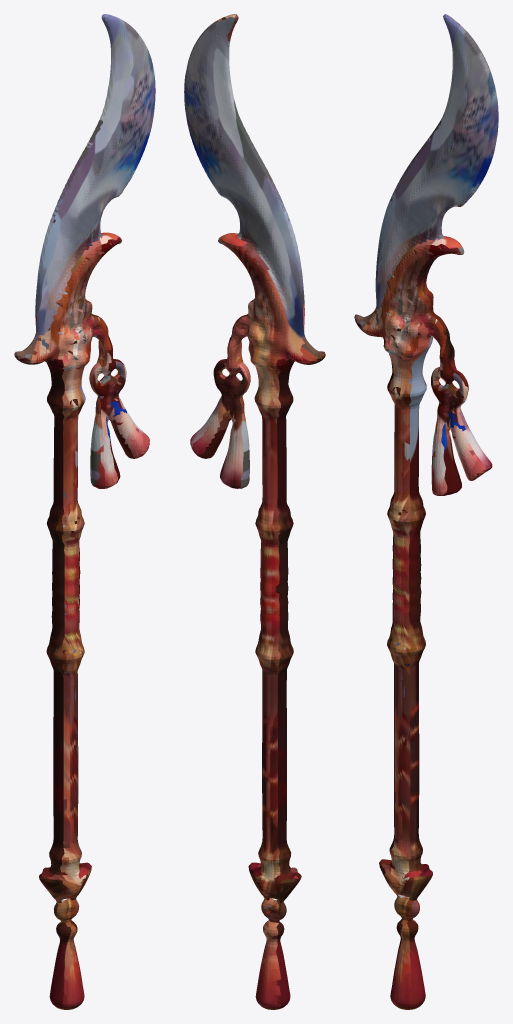
File: naginata_source.glb
3 renders of one model, left to right at view 1: azimuth 30°, elevation 25°; view 2: azimuth 150°, elevation 25°; view 3: azimuth 330°, elevation 25°, orthographic.
Visible parts, largest first — view 1: temp_mesh.ply; view 2: temp_mesh.ply; view 3: temp_mesh.ply.
Part boxes in pixels (left/top/right/bottom): temp_mesh.ply: left=14, top=14, right=155, bottom=1009; temp_mesh.ply: left=184, top=14, right=325, bottom=1009; temp_mesh.ply: left=354, top=14, right=498, bottom=1009.
Size of the model in its own units: 0.2961 by 1.97 by 0.079.
Materials: 1 (1 with a texture image).
